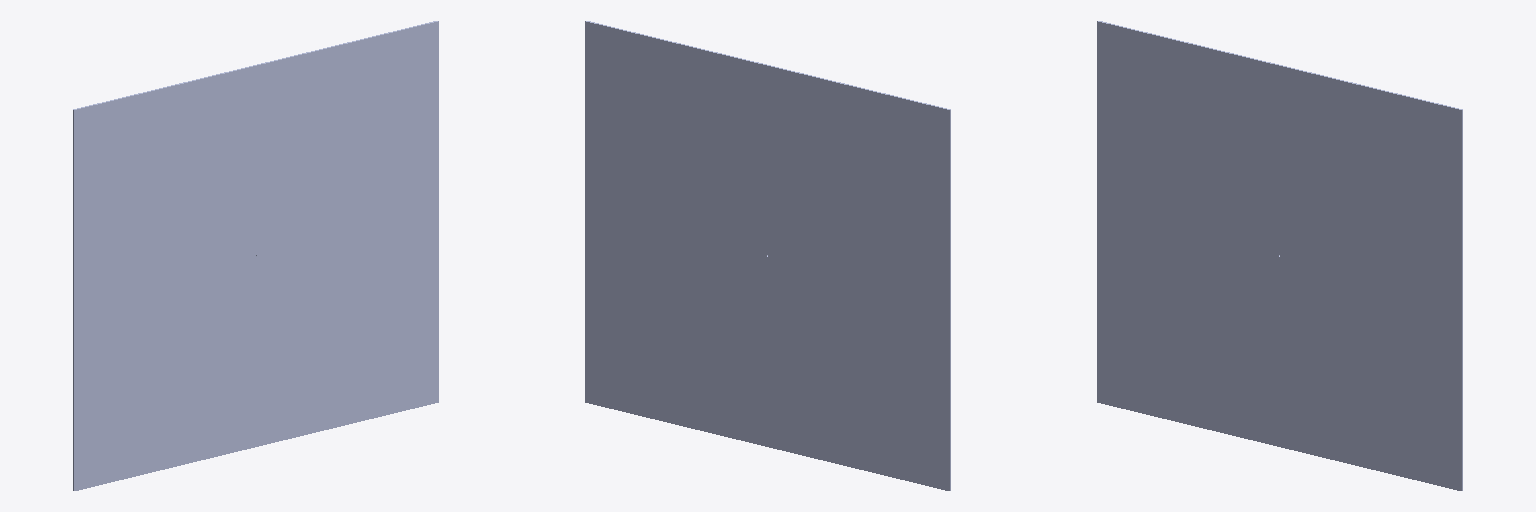
URDF robot description (RA605_710):
<robot
  name="RA605_710">
  <link
    name="base_link">
    <inertial>
      <origin
        xyz="0.00322329614662995 4.34882897851135E-16 -0.005"
        rpy="0 0 0" />
      <mass
        value="39.9992146018366" />
      <inertia
        ixx="13.3336666552129"
        ixy="2.73645750664298E-15"
        ixz="-2.18068724783876E-19"
        iyy="13.3336666552129"
        iyz="-4.65653775686255E-14"
        izz="26.6666666568492" />
    </inertial>
    <visual>
      <origin
        xyz="0 0 0"
        rpy="0 0 0" />
      <geometry>
        <mesh
          filename="package://RA605_710/meshes/base_link.STL" />
      </geometry>
      <material
        name="">
        <color
          rgba="0.792156862745098 0.819607843137255 0.933333333333333 1" />
      </material>
    </visual>
    <collision>
      <origin
        xyz="0 0 0"
        rpy="0 0 0" />
      <geometry>
        <mesh
          filename="package://RA605_710/meshes/base_link.STL" />
      </geometry>
    </collision>
  </link>
  <link
    name="Empty_Link">
    <inertial>
      <origin
        xyz="-0.0032233 -0.005 3.7852E-16"
        rpy="0 0 0" />
      <mass
        value="39.999" />
      <inertia
        ixx="13.334"
        ixy="9.0784E-18"
        ixz="-1.8504E-15"
        iyy="26.667"
        iyz="-4.5736E-14"
        izz="13.334" />
    </inertial>
    <visual>
      <origin
        xyz="0 0 0"
        rpy="0 0 0" />
      <geometry>
        <mesh
          filename="package://RA605_710/meshes/Empty_Link.STL" />
      </geometry>
      <material
        name="">
        <color
          rgba="0.79216 0.81961 0.93333 1" />
      </material>
    </visual>
    <collision>
      <origin
        xyz="0 0 0"
        rpy="0 0 0" />
      <geometry>
        <mesh
          filename="package://RA605_710/meshes/Empty_Link.STL" />
      </geometry>
    </collision>
  </link>
  <joint
    name="joint1"
    type="fixed">
    <origin
      xyz="0 0 0"
      rpy="0 -1.22460635382238E-16 3.14159265358979" />
    <parent
      link="base_link" />
    <child
      link="Empty_Link" />
    <axis
      xyz="0 1 0" />
  </joint>
</robot>

--- Facts derived from the render (not from the file) ---
Views: 3 orthographic renders of the robot side by side, from view 1: azimuth 30°, elevation 25°; view 2: azimuth 150°, elevation 25°; view 3: azimuth 330°, elevation 25°.
Robot: RA605_710 — 2 links, 1 joints (1 fixed); root link base_link; default pose: every joint at zero.
Visible links, largest first — view 1: base_link; view 2: base_link; view 3: base_link.
Boxes of the visible links, left/top/right/bottom form: base_link: left=73, top=21, right=438, bottom=490; base_link: left=585, top=21, right=950, bottom=490; base_link: left=1097, top=21, right=1462, bottom=490.
Bounding box of the posed robot: 2 × 0.01 × 2 m (x, y, z).
Meshes: 2 distinct files referenced, 1 mesh visuals loaded (1 binary STL); not drawn: 1 (reference not matched to a file when rendering).